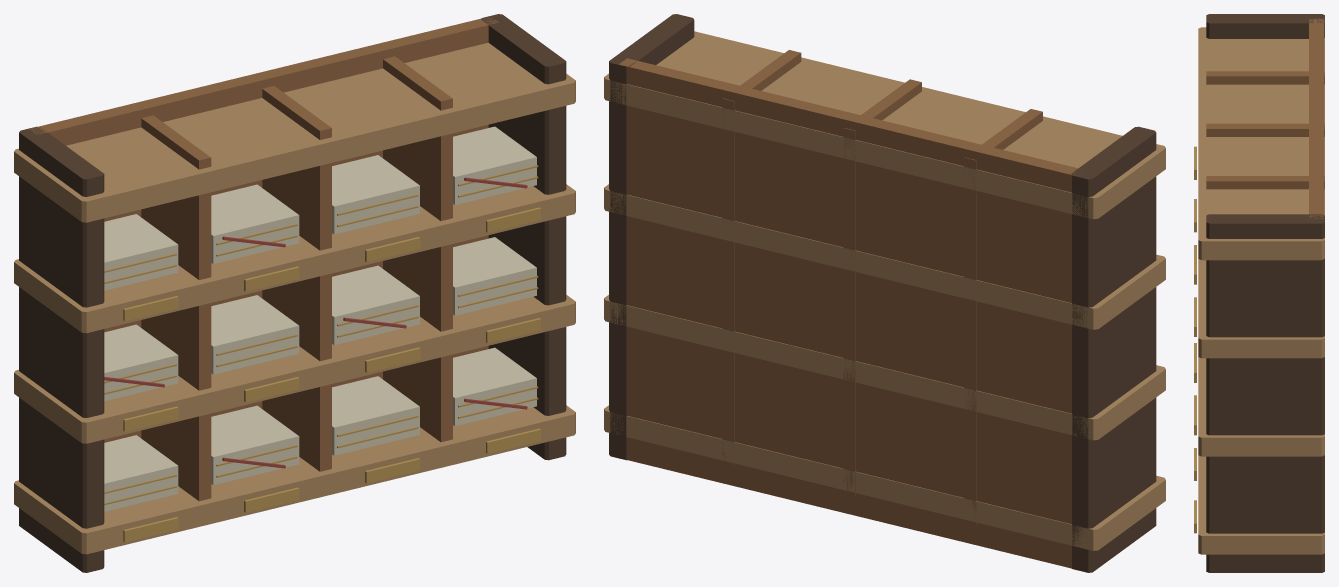
The model's file is sorter_mail.glb.
3 views of the same model, side by side, from view 1: azimuth 30°, elevation 25°; view 2: azimuth 150°, elevation 25°; view 3: azimuth 270°, elevation 25° (orthographic). The views are drawn at different scales.
Visible parts, largest first — view 1: geometry; view 2: geometry; view 3: geometry.
Boxes of the visible parts, x1,y1,x2,y2 form: geometry: (14, 14, 575, 572); geometry: (604, 14, 1165, 572); geometry: (1194, 14, 1324, 572).
Size of the model in its own units: 1.84 by 1.4 by 0.475.
